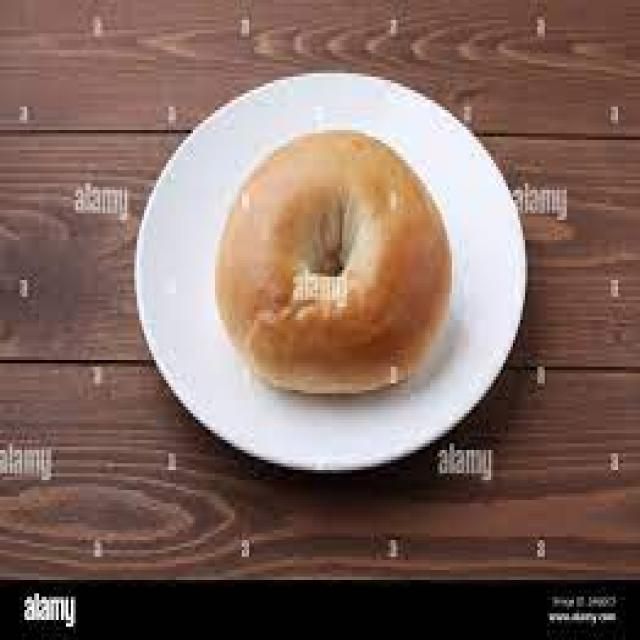Bagel: (216, 131, 447, 393)
